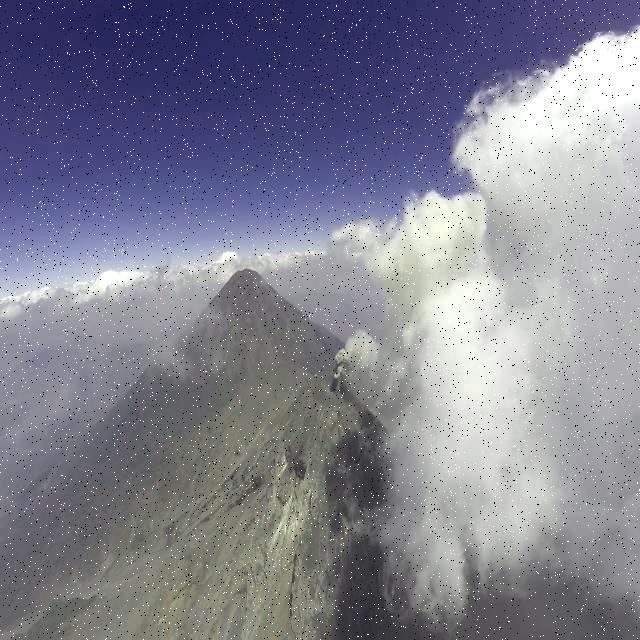Plume: (380, 188, 484, 388), (332, 330, 372, 386)
Summit: (257, 372, 385, 476)
